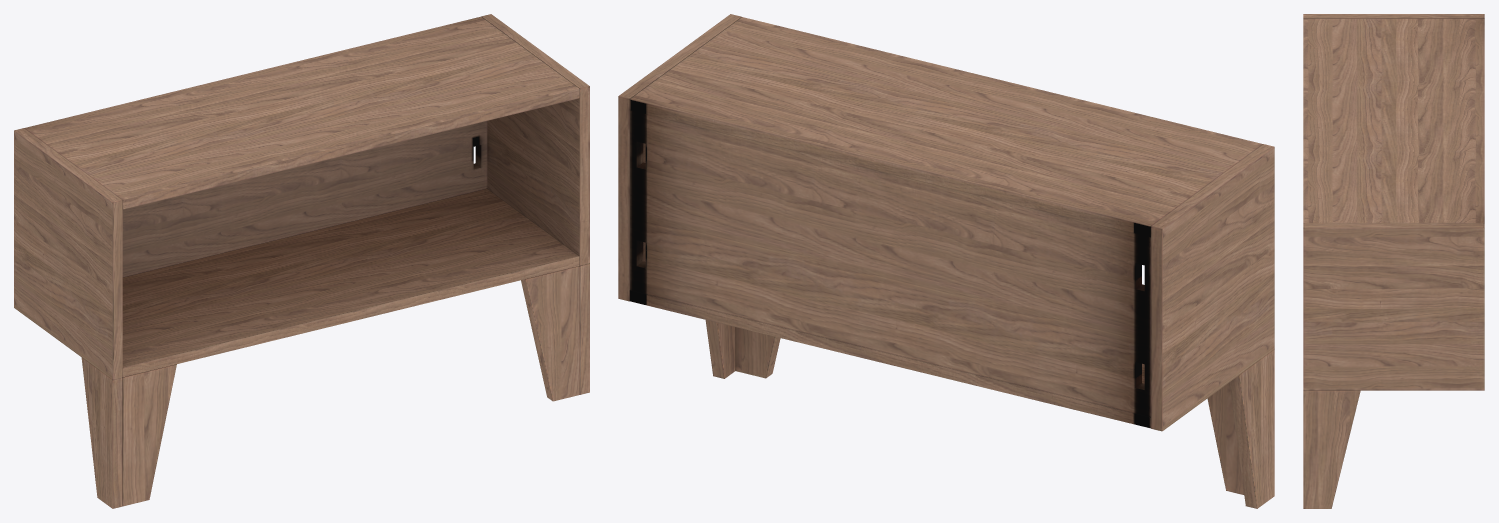
The model's file is unit_open_small.glb.
3 views of the same model, side by side, from view 1: azimuth 30°, elevation 25°; view 2: azimuth 150°, elevation 25°; view 3: azimuth 270°, elevation 25° (orthographic). The views are drawn at different scales.
Parts seen in each view (by area): view 1: Cube.041, Cube.043, Cube.015, Cube.018, m_foot_l, m_foot_r; view 2: Cube.043, Cube.041, Cube.015, m_foot_l, Cube.018, m_foot_r; view 3: Cube.041, Cube.018, m_foot_r, Cube.015.
Boxes of the visible parts, x1,y1,x2,y2 form: Cube.041: (24,16,579,377); Cube.043: (122,121,487,277); Cube.015: (14,128,122,379); Cube.018: (481,14,589,265); m_foot_l: (81,357,176,508); m_foot_r: (521,263,589,401); Cube.043: (630,110,1150,417); Cube.041: (629,17,1262,428); Cube.015: (1151,144,1274,431); m_foot_l: (1207,349,1274,508); Cube.018: (618,14,741,301); m_foot_r: (705,320,780,378); Cube.041: (1303,18,1484,223); Cube.018: (1303,223,1484,390); m_foot_r: (1303,390,1360,508); Cube.015: (1303,14,1484,18).
Size of the model in its own units: 1 by 0.6137 by 0.3579.
1 material, 1 textured.
